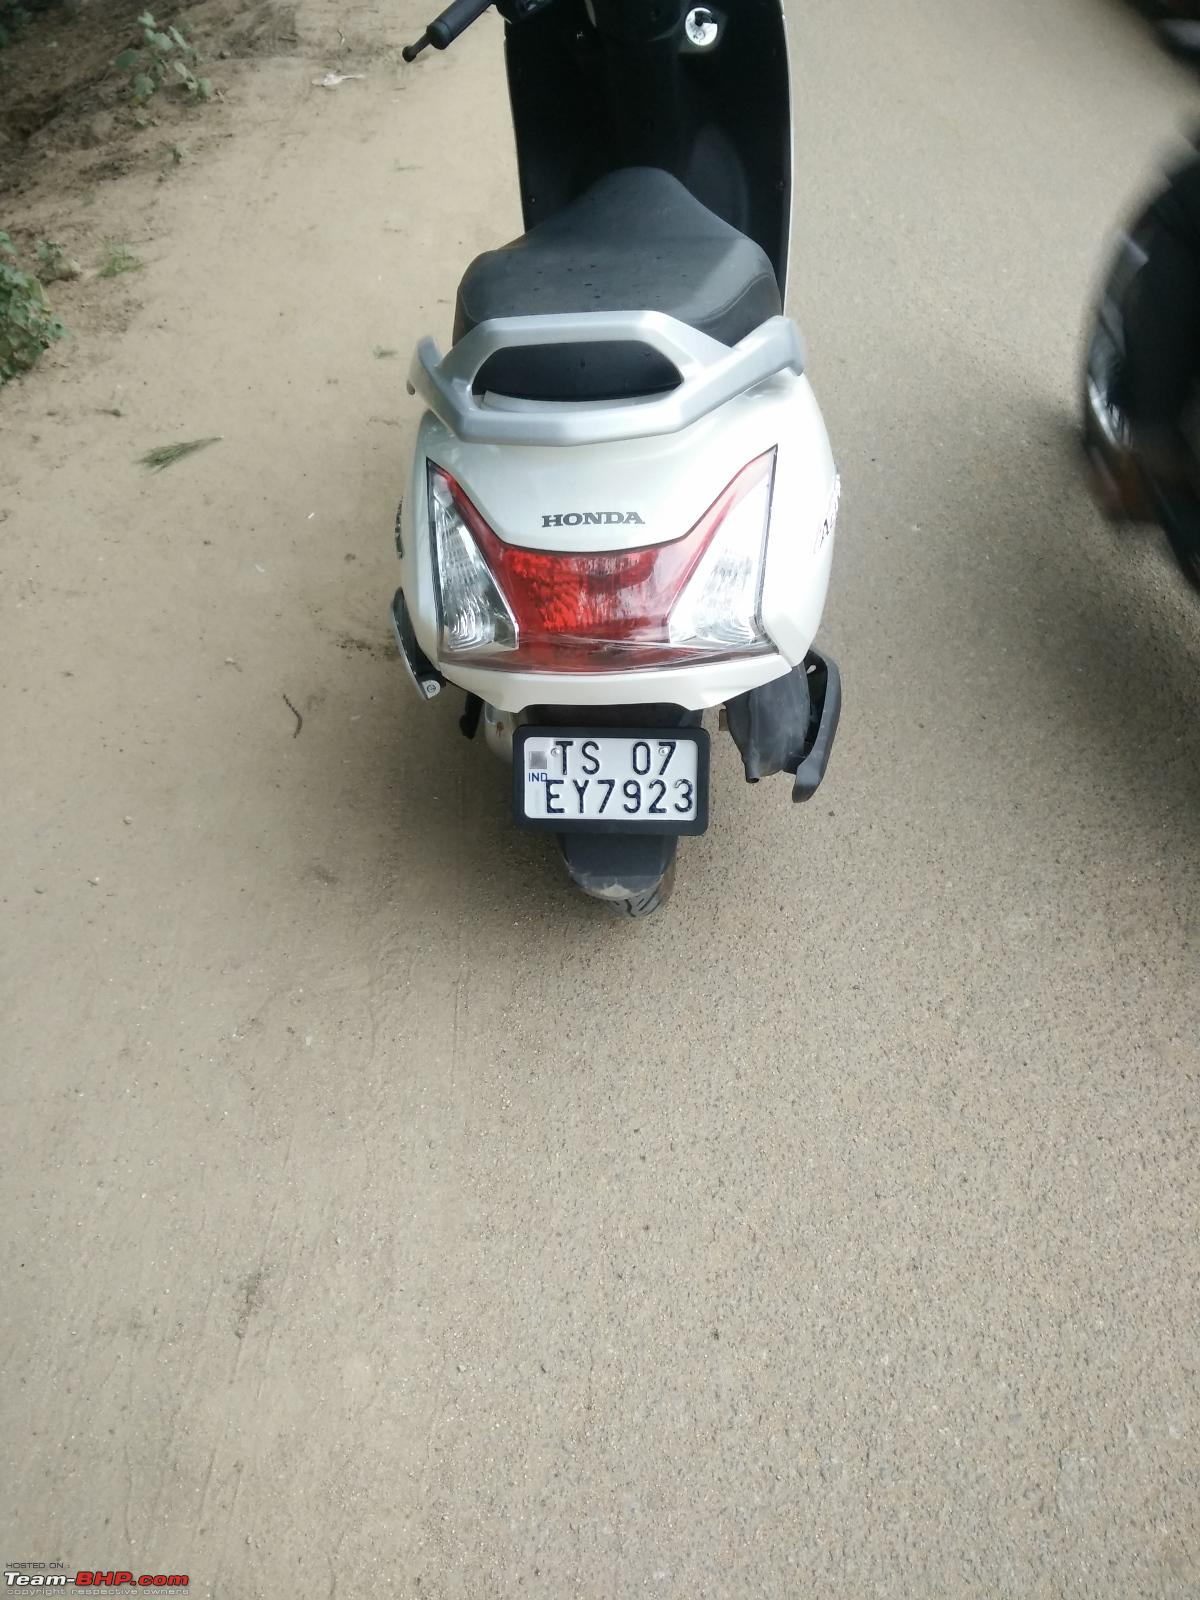doublelinenumberplate: (506, 721, 714, 831)
